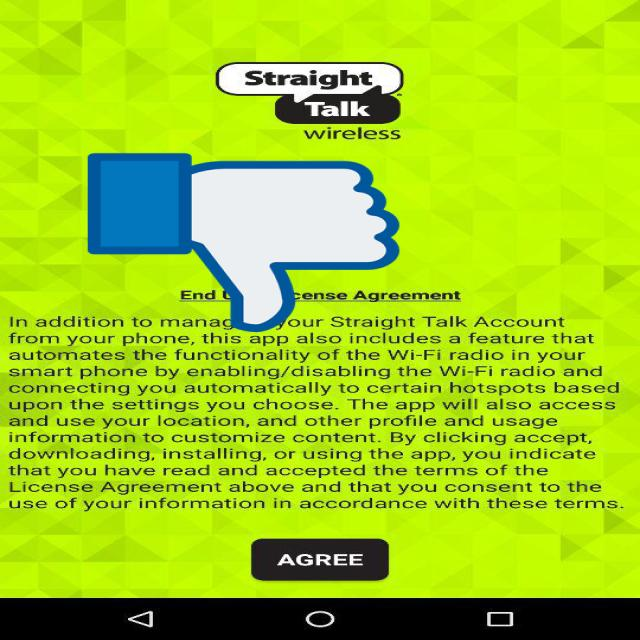obstruction: (88, 149, 399, 336)
